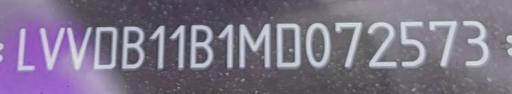letter: (236, 22, 274, 70), (332, 20, 364, 72), (426, 18, 460, 66), (364, 20, 398, 68), (460, 19, 492, 68), (273, 21, 303, 71), (396, 19, 426, 68), (303, 21, 331, 70), (36, 25, 66, 69), (187, 23, 213, 73), (118, 24, 146, 70), (214, 23, 238, 73), (91, 23, 117, 69), (14, 26, 38, 72), (66, 25, 90, 69), (147, 23, 167, 71), (170, 23, 188, 73)
